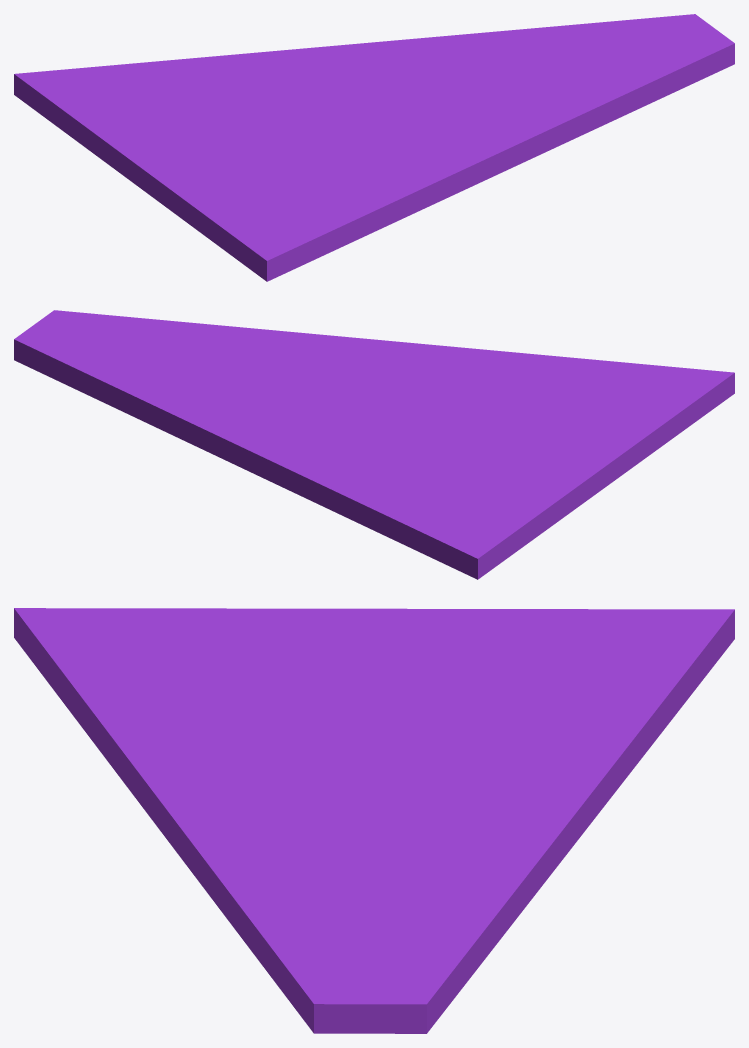
Rendered from StairsStep_10.fbx.
The picture shows the model from 3 angles, top to bottom: view 1: azimuth 30°, elevation 25°; view 2: azimuth 150°, elevation 25°; view 3: azimuth 270°, elevation 25°; orthographic projection. The views are drawn at different scales.
Visible parts, largest first — view 1: StairsStep_10; view 2: StairsStep_10; view 3: StairsStep_10.
Part boxes in pixels (x1,y1,x2,y2): StairsStep_10: (14, 14, 734, 281); StairsStep_10: (14, 310, 734, 579); StairsStep_10: (14, 608, 734, 1033).
Size of the model in its own units: 516 by 17.94 by 397.
